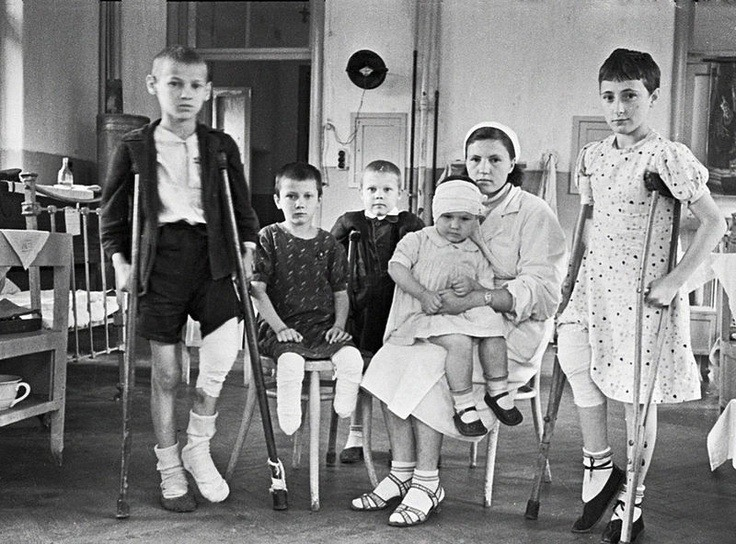crutches: (522, 48, 728, 544), (100, 44, 290, 521)
